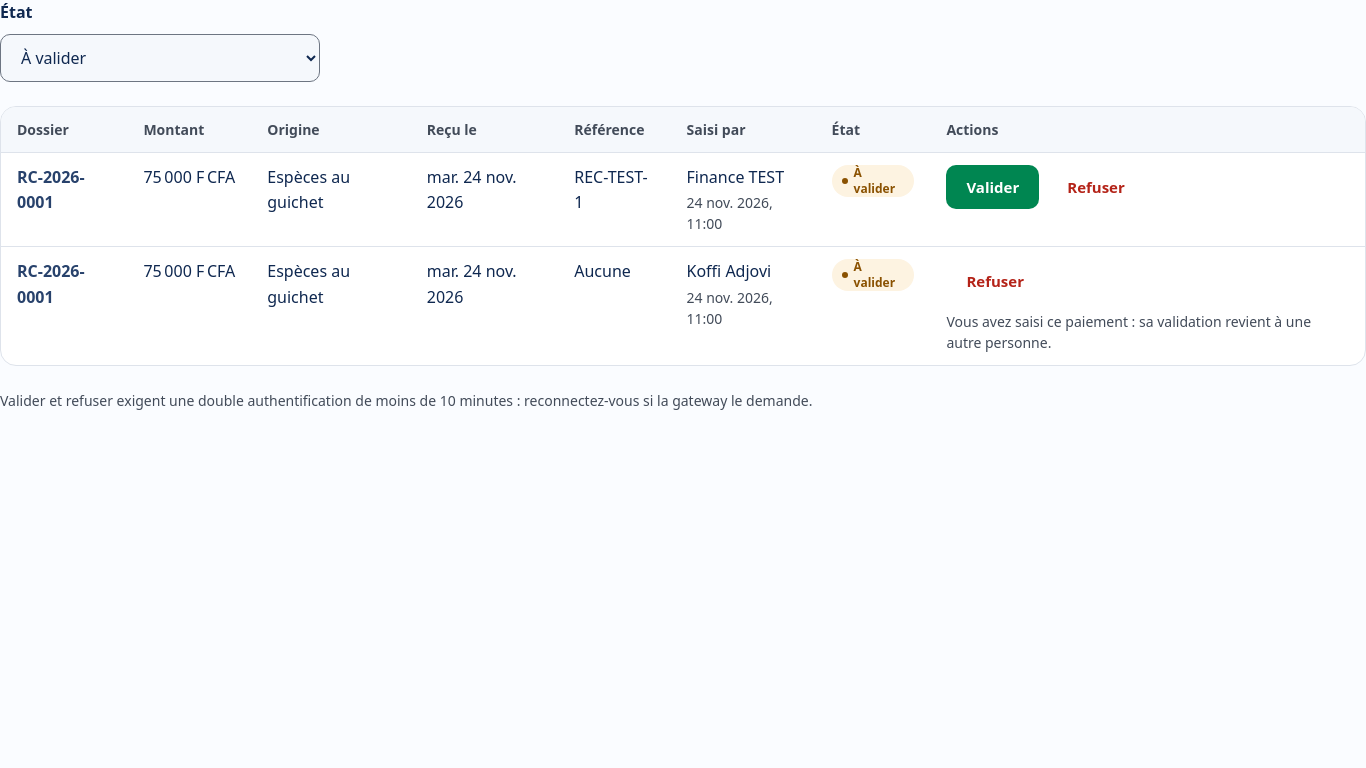
Test: paiements hors ligne › file « À valider » : validation par une autre personne, masquée pour l’auteur
Check: the text "Vous avez saisi ce paiement : sa validation revient à une autre personne." is shown, box [946,311,1349,353]
Check: the number of buttons named "Refuser le paiement" is 2, box [1047,165,1145,209]; [946,259,1044,303]
Click the button with aria-label "Valider le paiement" at (993, 187), box [946,165,1039,209]
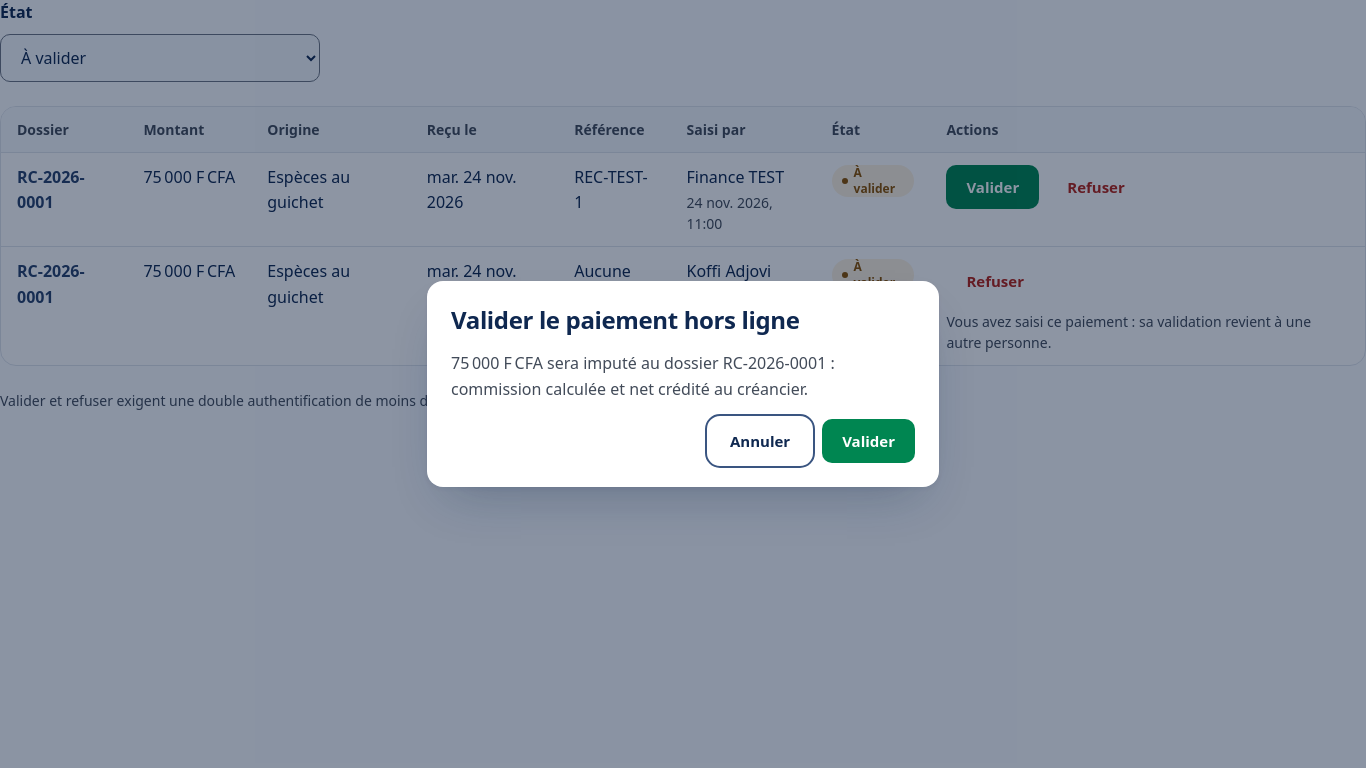
Click the button "Valider" below "Valider le paiement hors ligne" at (869, 441), box [822,419,915,463]
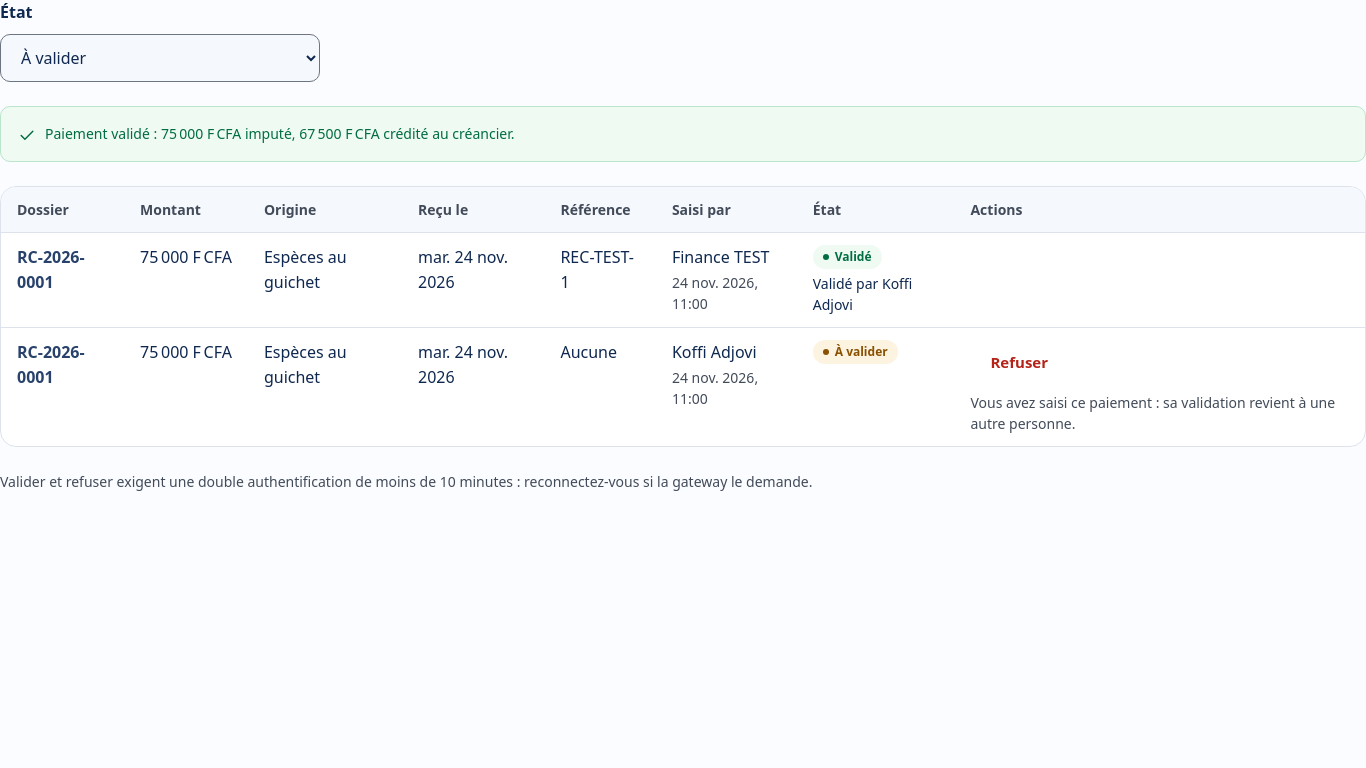
Check: the text "Validé par Koffi Adjovi" is shown, box [813,274,912,314]
